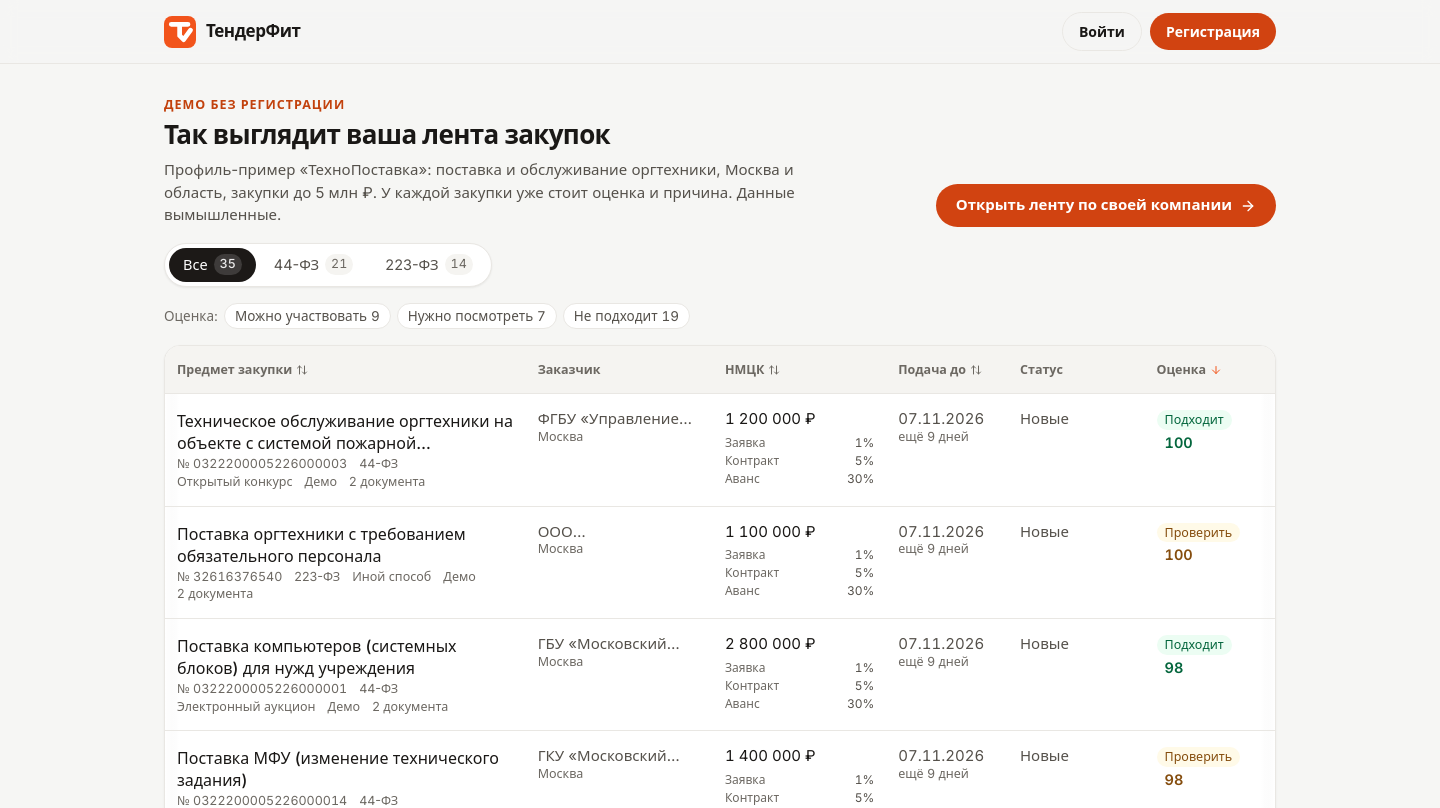
Test case: DemoFeedView › клик по закупке открывает предложение зарегистрироваться, а не карточку
Click the 5th link.
click(345, 432)  # box [177,410,514,454]
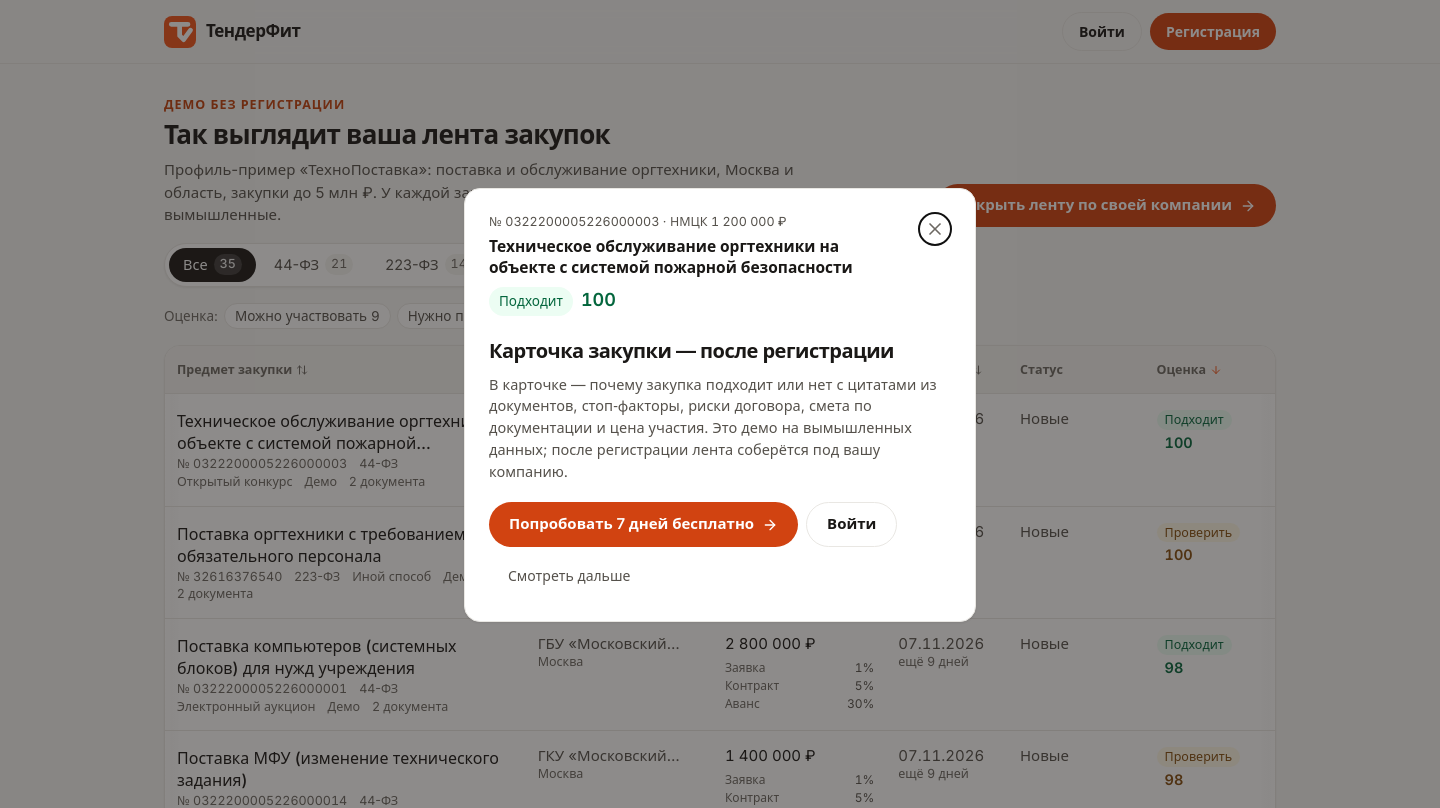
Expected: the dialog shows "после регистрации", [489,339,894,363]
Click the button named "Закрыть".
click(935, 229)  # box [919,213,951,245]
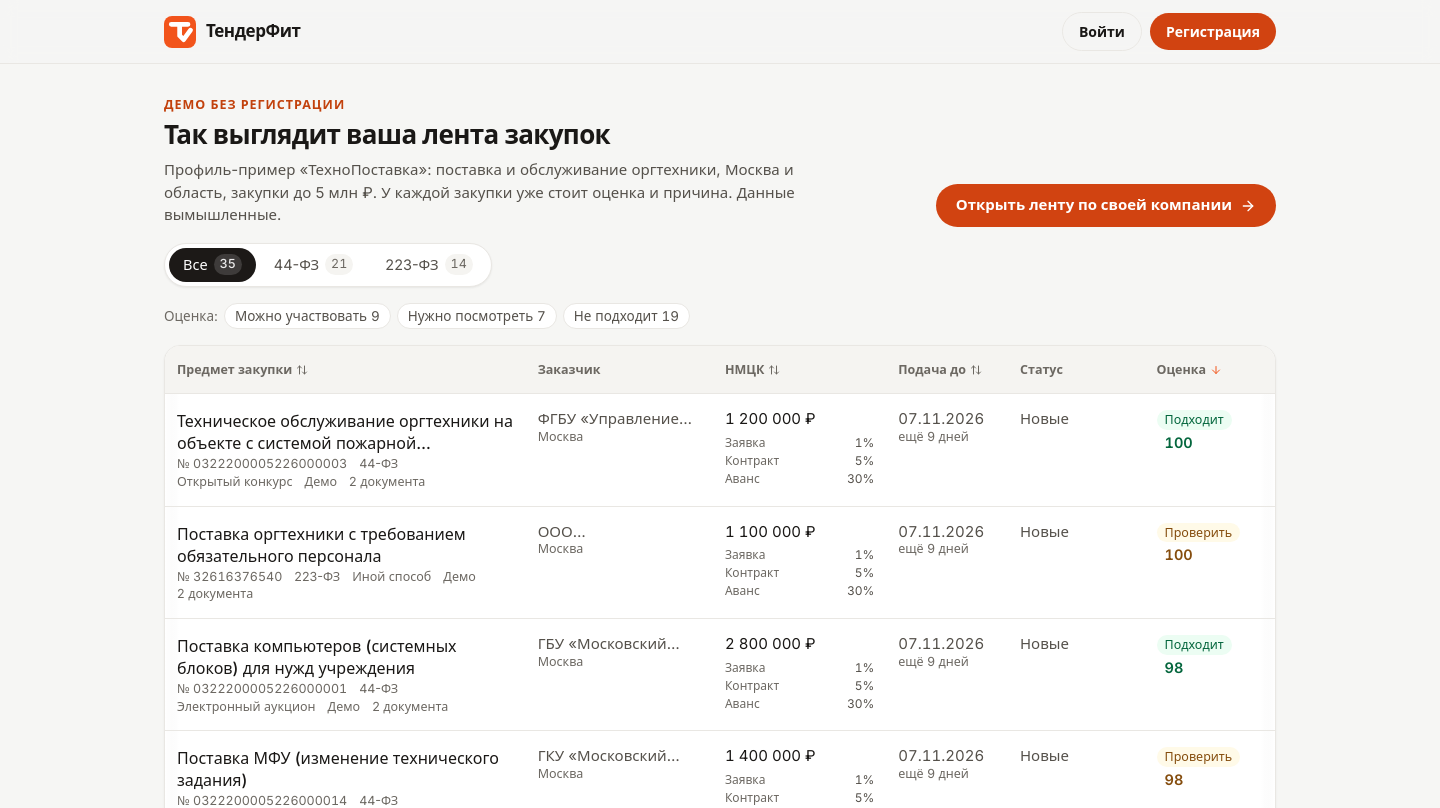
Expected: the dialog is gone
